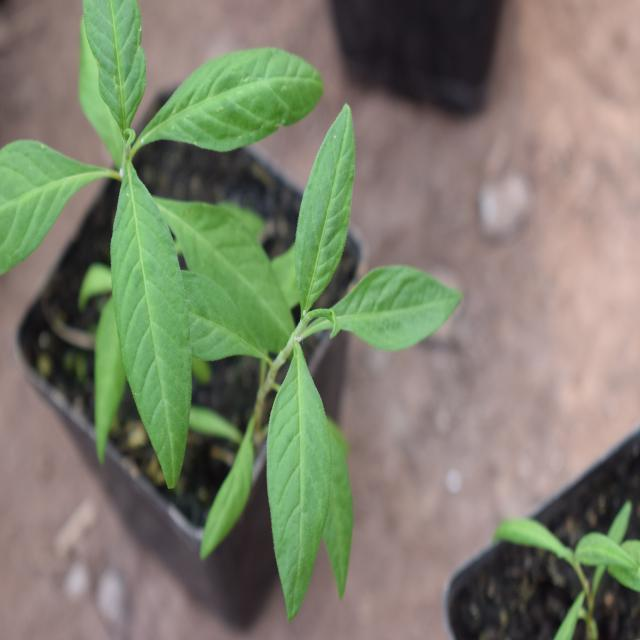white_smart_weed: (180, 104, 432, 567)
